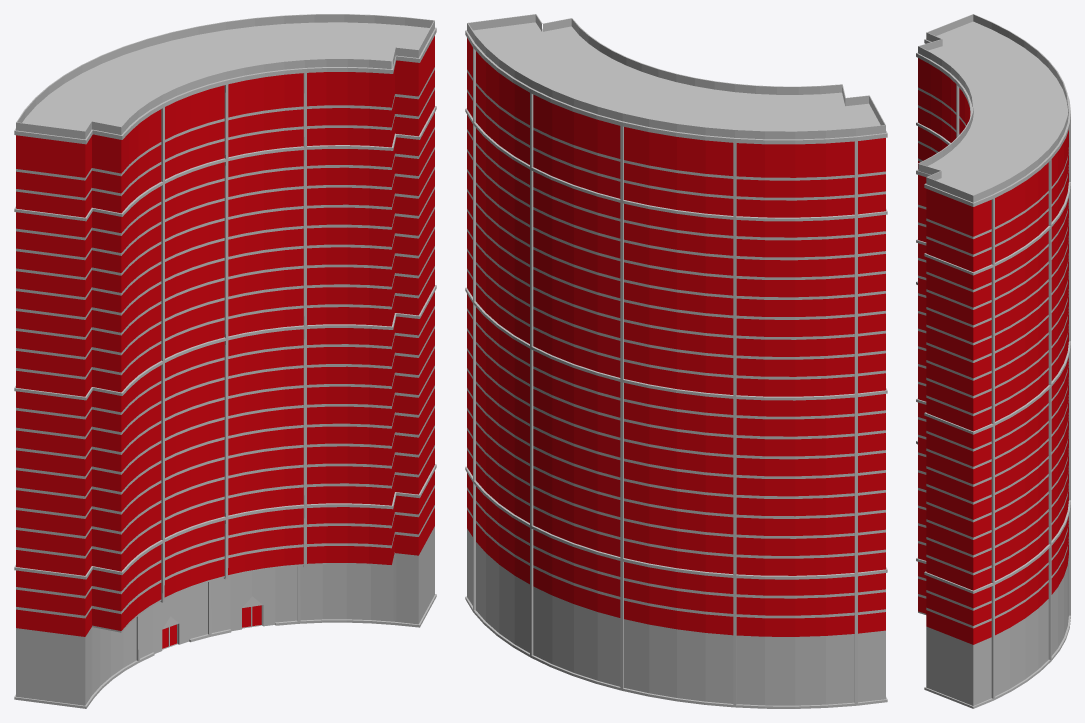
File: SM_skyscraper_03.gltf
3 renders of one model, left to right at view 1: azimuth 30°, elevation 25°; view 2: azimuth 150°, elevation 25°; view 3: azimuth 270°, elevation 25°, orthographic. The views are drawn at different scales.
Parts seen in each view (by area): view 1: skyscraper_03; view 2: skyscraper_03; view 3: skyscraper_03.
Boxes of the visible parts, left/top/right/bottom form: skyscraper_03: left=14, top=14, right=436, bottom=708; skyscraper_03: left=465, top=14, right=887, bottom=708; skyscraper_03: left=916, top=14, right=1070, bottom=708.
Bounding box in the file's own units: 56 × 73 × 20.
